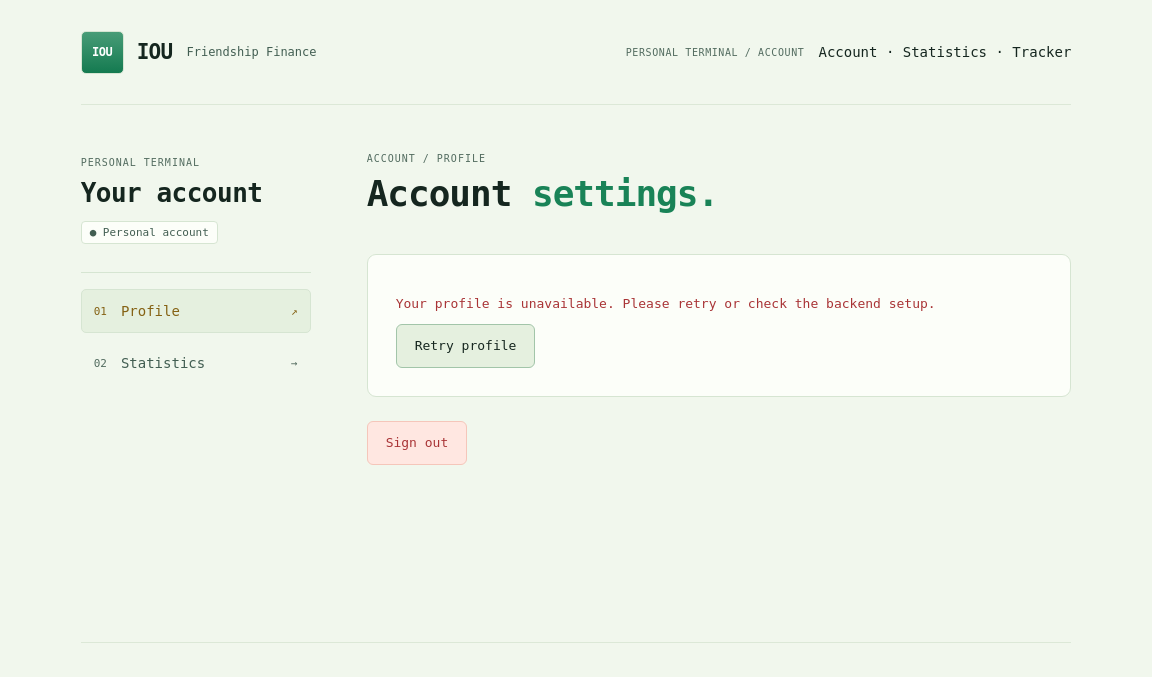
Test: Level 0 account flow › can retry loading a profile after a backend outage
Click the button "Retry profile" at (466, 346), box [396, 324, 535, 368]
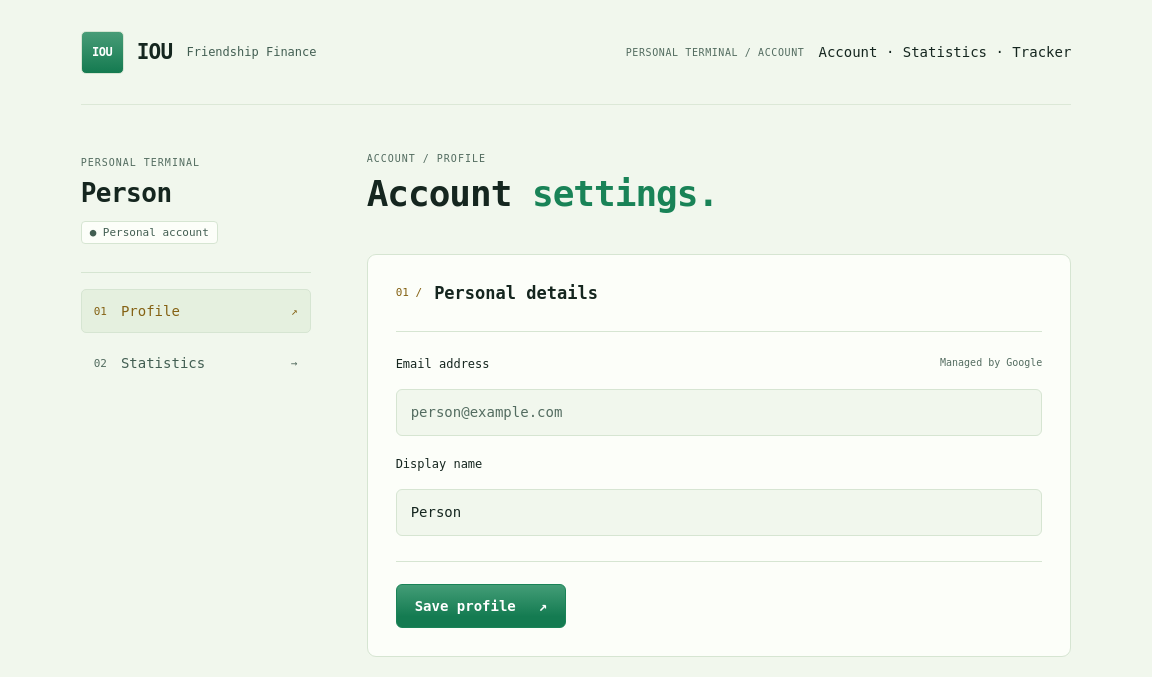
Expected: the field labelled "Display name" holds "Person", [396, 489, 1042, 536]
